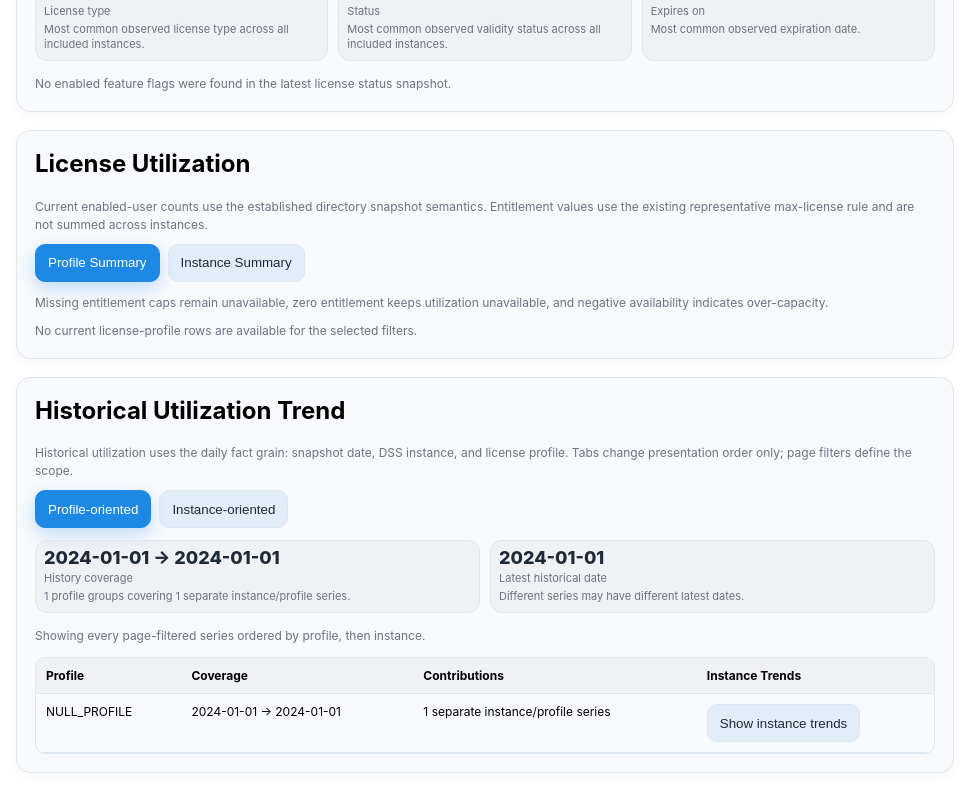
Test: License utilization fact UI › keeps unavailable utilization state when history points are null
The width and height of the screenshot is (971, 790).
(page scrolled)
Click the button "Show instance trends": {"x": 784, "y": 723} [707, 704, 860, 742]
(page scrolled)
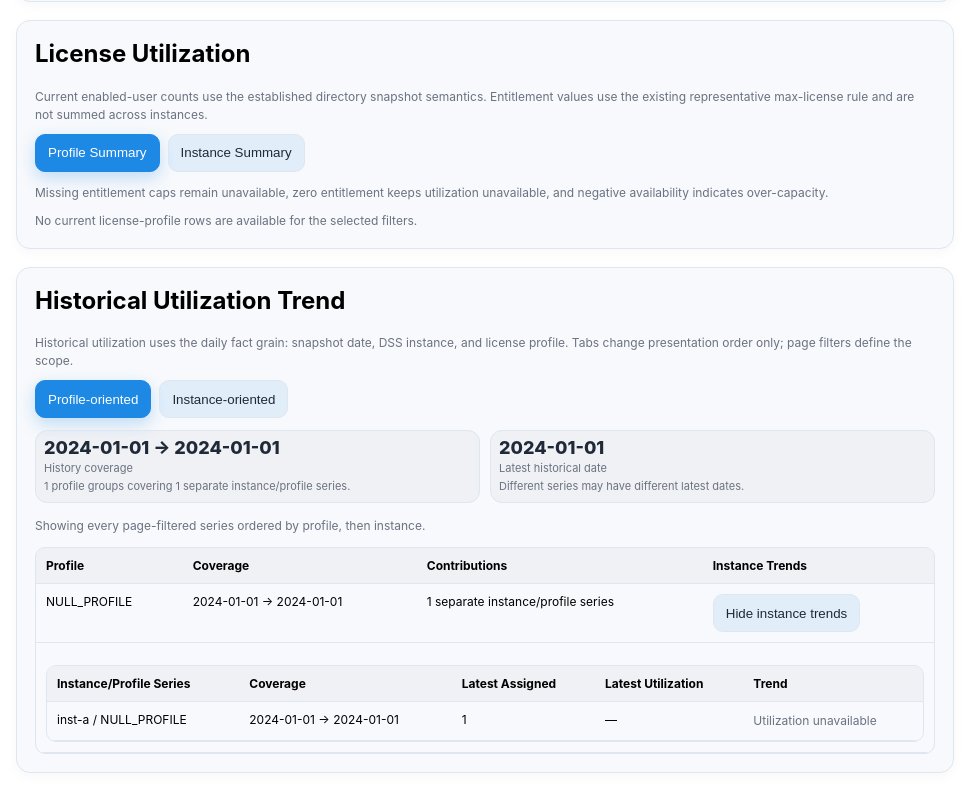
expect the text "Utilization unavailable" is shown: met, box [753, 713, 877, 728]
